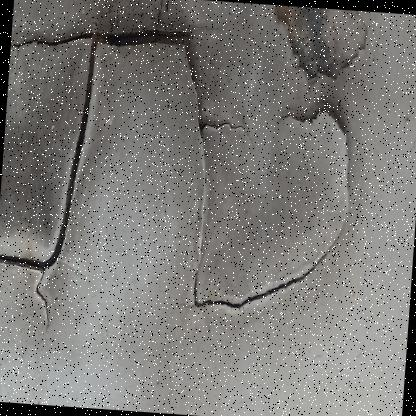Crack: (0, 0, 405, 385)
